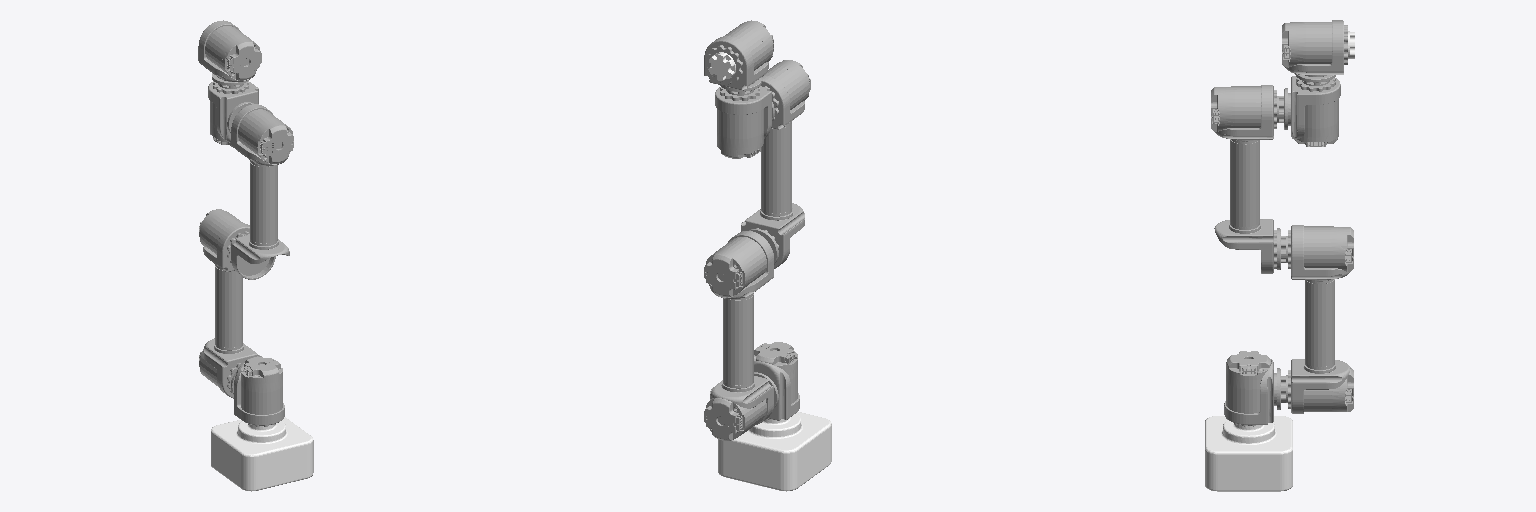
The robot description file, URDF, robot "gluon_6l3_description":
<?xml version="1.0" encoding="utf-8"?>
<!-- This URDF was automatically created by SolidWorks to URDF Exporter! Originally created by [author] ([email redacted]) 
     Commit Version: 1.5.1-0-g916b5db  Build Version: 1.5.7152.31018
     For more information, please see http://wiki.ros.org/sw_urdf_exporter -->
<robot
  name="gluon_6l3_description">
  <link
    name="base_link">
    <inertial>
      <origin
        xyz="6.00214302719138E-11 -2.03592043663259E-18 0.0271404483614374"
        rpy="0 0 0" />
      <mass
        value="0.524001417146026" />
      <inertia
        ixx="0.000535467122847014"
        ixy="5.80561098039657E-10"
        ixz="1.91837356095828E-11"
        iyy="0.000535467082580035"
        iyz="5.33104892292796E-20"
        izz="0.000799852045598815" />
    </inertial>
    <visual>
      <origin
        xyz="0 0 0"
        rpy="0 0 0" />
      <geometry>
        <mesh
          filename="package://gluon_6l3_description/meshes/base_link.STL" />
      </geometry>
      <material
        name="">
        <color
          rgba="1 1 1 1" />
      </material>
    </visual>
    <collision>
      <origin
        xyz="0 0 0"
        rpy="0 0 0" />
      <geometry>
        <mesh
          filename="package://gluon_6l3_description/meshes/base_link.STL" />
      </geometry>
    </collision>
  </link>
  <link
    name="shoulder_link">
    <inertial>
      <origin
        xyz="6.4504988678293E-06 0.0138491130559665 -0.0114038936020913"
        rpy="0 0 0" />
      <mass
        value="0.0820185009306671" />
      <inertia
        ixx="3.02771647844208E-05"
        ixy="4.98647342619796E-10"
        ixz="1.02799620338453E-09"
        iyy="3.14768364536352E-05"
        iyz="-7.94964924528223E-06"
        izz="2.79887356737968E-05" />
    </inertial>
    <visual>
      <origin
        xyz="0 0 0"
        rpy="0 0 0" />
      <geometry>
        <mesh
          filename="package://gluon_6l3_description/meshes/shoulder_link.STL" />
      </geometry>
      <material
        name="">
        <color
          rgba="0.752941176470588 0.752941176470588 0.752941176470588 1" />
      </material>
    </visual>
    <collision>
      <origin
        xyz="0 0 0"
        rpy="0 0 0" />
      <geometry>
        <mesh
          filename="package://gluon_6l3_description/meshes/shoulder_link.STL" />
      </geometry>
    </collision>
  </link>
  <joint
    name="shoulder_pan_joint"
    type="revolute">
    <origin
      xyz="0 0 0.10503"
      rpy="0 0 0" />
    <parent
      link="base_link" />
    <child
      link="shoulder_link" />
    <axis
      xyz="0 0 1" />
    <limit
      lower="-3.14"
      upper="3.14"
      effort="150"
      velocity="3.15" />
  </joint>
  <link
    name="upper_arm_link">
    <inertial>
      <origin
        xyz="5.76283818191725E-17 -0.00796192925635632 0.0872101279339996"
        rpy="0 0 0" />
      <mass
        value="0.23495065778678" />
      <inertia
        ixx="0.000149085261775553"
        ixy="-1.19688965699115E-19"
        ixz="-9.97294685179312E-10"
        iyy="0.000144508403554305"
        iyz="-1.30432354342531E-19"
        izz="7.22034259223348E-05" />
    </inertial>
    <visual>
      <origin
        xyz="0 0 0"
        rpy="0 0 0" />
      <geometry>
        <mesh
          filename="package://gluon_6l3_description/meshes/upper_arm_link.STL" />
      </geometry>
      <material
        name="">
        <color
          rgba="0.752941176470588 0.752941176470588 0.752941176470588 1" />
      </material>
    </visual>
    <collision>
      <origin
        xyz="0 0 0"
        rpy="0 0 0" />
      <geometry>
        <mesh
          filename="package://gluon_6l3_description/meshes/upper_arm_link.STL" />
      </geometry>
    </collision>
  </link>
  <joint
    name="shoulder_lift_joint"
    type="revolute">
    <origin
      xyz="0 0.080088 0"
      rpy="0 0 0" />
    <parent
      link="shoulder_link" />
    <child
      link="upper_arm_link" />
    <axis
      xyz="0 1 0" />
    <limit
      lower="-3.14"
      upper="3.14"
      effort="150"
      velocity="3.15" />
  </joint>
  <link
    name="forearm_link">
    <inertial>
      <origin
        xyz="-2.28721263676364E-06 0.0110440131133395 0.0921174993010334"
        rpy="0 0 0" />
      <mass
        value="0.238894459849097" />
      <inertia
        ixx="0.000149170706200484"
        ixy="3.25881137569095E-10"
        ixz="1.00738300511502E-09"
        iyy="0.000144556914762174"
        iyz="3.04659433394445E-10"
        izz="7.22747674688485E-05" />
    </inertial>
    <visual>
      <origin
        xyz="0 0 0"
        rpy="0 0 0" />
      <geometry>
        <mesh
          filename="package://gluon_6l3_description/meshes/forearm_link.STL" />
      </geometry>
      <material
        name="">
        <color
          rgba="0.752941176470588 0.752941176470588 0.752941176470588 1" />
      </material>
    </visual>
    <collision>
      <origin
        xyz="0 0 0"
        rpy="0 0 0" />
      <geometry>
        <mesh
          filename="package://gluon_6l3_description/meshes/forearm_link.STL" />
      </geometry>
    </collision>
  </link>
  <joint
    name="elbow_joint"
    type="revolute">
    <origin
      xyz="0 -0.084515 0.17442"
      rpy="0 0 0" />
    <parent
      link="upper_arm_link" />
    <child
      link="forearm_link" />
    <axis
      xyz="0 1 0" />
    <limit
      lower="-3.14"
      upper="3.14"
      effort="150"
      velocity="3.15" />
  </joint>
  <link
    name="wrist_1_link">
    <inertial>
      <origin
        xyz="6.4504988676471E-06 0.0707765705043197 0.0153497230747068"
        rpy="0 0 0" />
      <mass
        value="0.082018500930667" />
      <inertia
        ixx="3.02771647844206E-05"
        ixy="-4.98647342150018E-10"
        ixz="-1.02799620384103E-09"
        iyy="3.11501379832757E-05"
        iyz="-7.94964924528221E-06"
        izz="2.83154341441561E-05" />
    </inertial>
    <visual>
      <origin
        xyz="0 0 0"
        rpy="0 0 0" />
      <geometry>
        <mesh
          filename="package://gluon_6l3_description/meshes/wrist_1_link.STL" />
      </geometry>
      <material
        name="">
        <color
          rgba="0.752941176470588 0.752941176470588 0.752941176470588 1" />
      </material>
    </visual>
    <collision>
      <origin
        xyz="0 0 0"
        rpy="0 0 0" />
      <geometry>
        <mesh
          filename="package://gluon_6l3_description/meshes/wrist_1_link.STL" />
      </geometry>
    </collision>
  </link>
  <joint
    name="wrist_1_joint"
    type="revolute">
    <origin
      xyz="0 0 0.17442"
      rpy="0 0 0" />
    <parent
      link="forearm_link" />
    <child
      link="wrist_1_link" />
    <axis
      xyz="0 -1 0" />
    <limit
      lower="-3.14"
      upper="3.14"
      effort="28"
      velocity="3.2" />
  </joint>
  <link
    name="wrist_2_link">
    <inertial>
      <origin
        xyz="-7.2147559877832E-06 0.0127550304764162 0.0696733807918641"
        rpy="0 0 0" />
      <mass
        value="0.0733303036590749" />
      <inertia
        ixx="2.96845482915175E-05"
        ixy="1.02799620365497E-09"
        ixz="4.98647342585307E-10"
        iyy="2.73961191808933E-05"
        iyz="-7.94964924528226E-06"
        izz="3.05575214903725E-05" />
    </inertial>
    <visual>
      <origin
        xyz="0 0 0"
        rpy="0 0 0" />
      <geometry>
        <mesh
          filename="package://gluon_6l3_description/meshes/wrist_2_link.STL" />
      </geometry>
      <material
        name="">
        <color
          rgba="0.752941176470588 0.752941176470588 0.752941176470588 1" />
      </material>
    </visual>
    <collision>
      <origin
        xyz="0 0 0"
        rpy="0 0 0" />
      <geometry>
        <mesh
          filename="package://gluon_6l3_description/meshes/wrist_2_link.STL" />
      </geometry>
    </collision>
  </link>
  <joint
    name="wrist_2_joint"
    type="revolute">
    <origin
      xyz="0 0.080088 0"
      rpy="0 0 0" />
    <parent
      link="wrist_1_link" />
    <child
      link="wrist_2_link" />
    <axis
      xyz="0 0 -1" />
    <limit
      lower="-3.14"
      upper="3.14"
      effort="28"
      velocity="3.2" />
  </joint>
  <link
    name="wrist_3_link">
    <inertial>
      <origin
        xyz="5.16911893705007E-18 0.0372485016118171 -1.11022302462516E-16"
        rpy="0 0 0" />
      <mass
        value="0.0086881972715925" />
      <inertia
        ixx="5.92616492903874E-07"
        ixy="-1.90251559713552E-22"
        ixz="-2.11657278394925E-19"
        iyy="9.19314963262971E-07"
        iyz="-1.43193395727718E-23"
        izz="5.92616492903025E-07" />
    </inertial>
    <visual>
      <origin
        xyz="0 0 0"
        rpy="0 0 0" />
      <geometry>
        <mesh
          filename="package://gluon_6l3_description/meshes/wrist_3_link.STL" />
      </geometry>
      <material
        name="">
        <color
          rgba="1 1 1 1" />
      </material>
    </visual>
    <collision>
      <origin
        xyz="0 0 0"
        rpy="0 0 0" />
      <geometry>
        <mesh
          filename="package://gluon_6l3_description/meshes/wrist_3_link.STL" />
      </geometry>
    </collision>
  </link>
  <joint
    name="wrist_3_joint"
    type="revolute">
    <origin
      xyz="0 0 0.080088"
      rpy="0 0 0" />
    <parent
      link="wrist_2_link" />
    <child
      link="wrist_3_link" />
    <axis
      xyz="0 -1 0" />
    <limit
      lower="-3.14"
      upper="3.14"
      effort="28"
      velocity="3.2" />
  </joint>
</robot>

--- Facts derived from the render (not from the file) ---
3 views of the same robot in one strip: view 1: azimuth 30°, elevation 25°; view 2: azimuth 150°, elevation 25°; view 3: azimuth 270°, elevation 25° (orthographic).
Robot: gluon_6l3_description — 7 links, 6 joints (6 revolute); root link base_link; default pose: every joint at zero.
Links seen in each view (by area): view 1: forearm_link, base_link, upper_arm_link, shoulder_link, wrist_2_link, wrist_1_link; view 2: upper_arm_link, forearm_link, base_link, wrist_1_link, wrist_2_link, shoulder_link, wrist_3_link; view 3: upper_arm_link, forearm_link, base_link, shoulder_link, wrist_2_link, wrist_1_link.
Boxes of the visible links, x1,y1,x2,y2 form: forearm_link: (231, 104, 293, 279); base_link: (211, 417, 313, 491); upper_arm_link: (199, 209, 260, 398); shoulder_link: (231, 356, 284, 426); wrist_2_link: (198, 20, 261, 85); wrist_1_link: (208, 81, 258, 146); upper_arm_link: (704, 231, 773, 440); forearm_link: (741, 60, 810, 268); base_link: (718, 412, 831, 491); wrist_1_link: (715, 86, 774, 158); wrist_2_link: (704, 20, 773, 91); shoulder_link: (754, 342, 799, 420); wrist_3_link: (708, 52, 735, 80); upper_arm_link: (1288, 225, 1353, 413); forearm_link: (1211, 85, 1287, 273); base_link: (1205, 416, 1292, 491); shoulder_link: (1224, 351, 1287, 426); wrist_2_link: (1282, 20, 1347, 82); wrist_1_link: (1284, 76, 1340, 146).
Size in the robot's own frame: 0.1 by 0.17 by 0.5618 metres.
Meshes: 7 distinct files referenced, 7 mesh visuals loaded (7 binary STL).